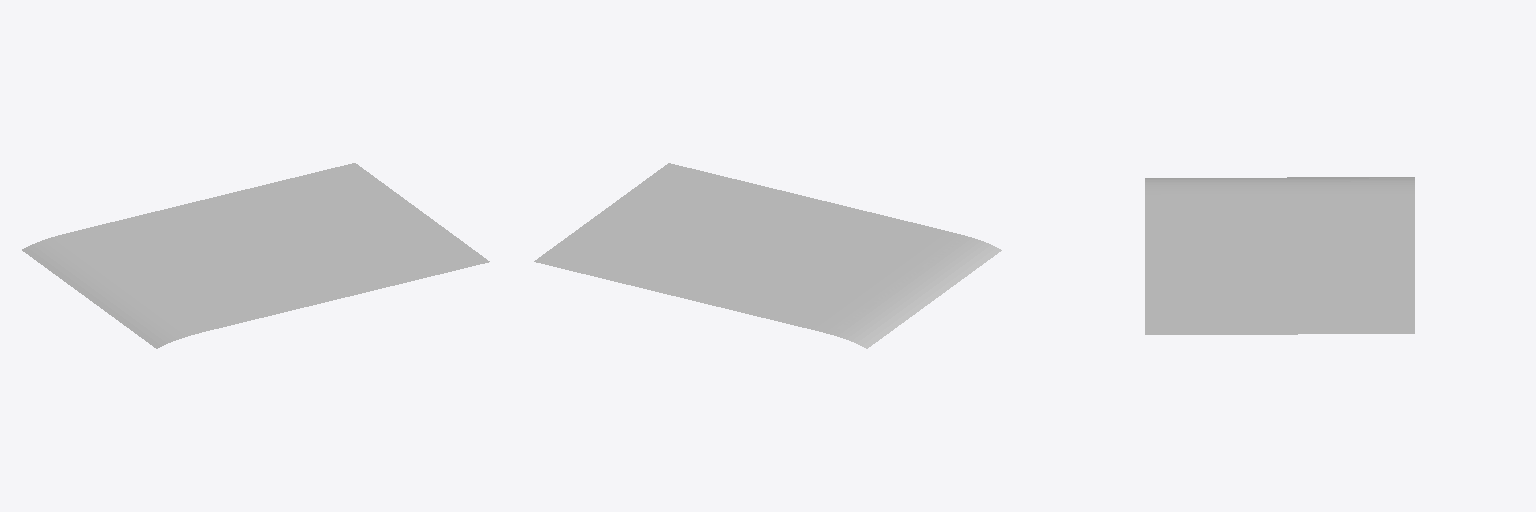
The model's file is CurvePaper_000071.obj.
The picture shows the model from 3 angles: view 1: azimuth 30°, elevation 25°; view 2: azimuth 150°, elevation 25°; view 3: azimuth 270°, elevation 25°; orthographic projection.
Parts seen in each view (by area): view 1: Plane; view 2: Plane; view 3: Plane.
Part boxes in pixels (x1,y1,x2,y2): Plane: (22,163,489,348); Plane: (534,163,1001,348); Plane: (1145,177,1414,334).
Size of the model in its own units: 3.22 by 0.0563 by 2.26.